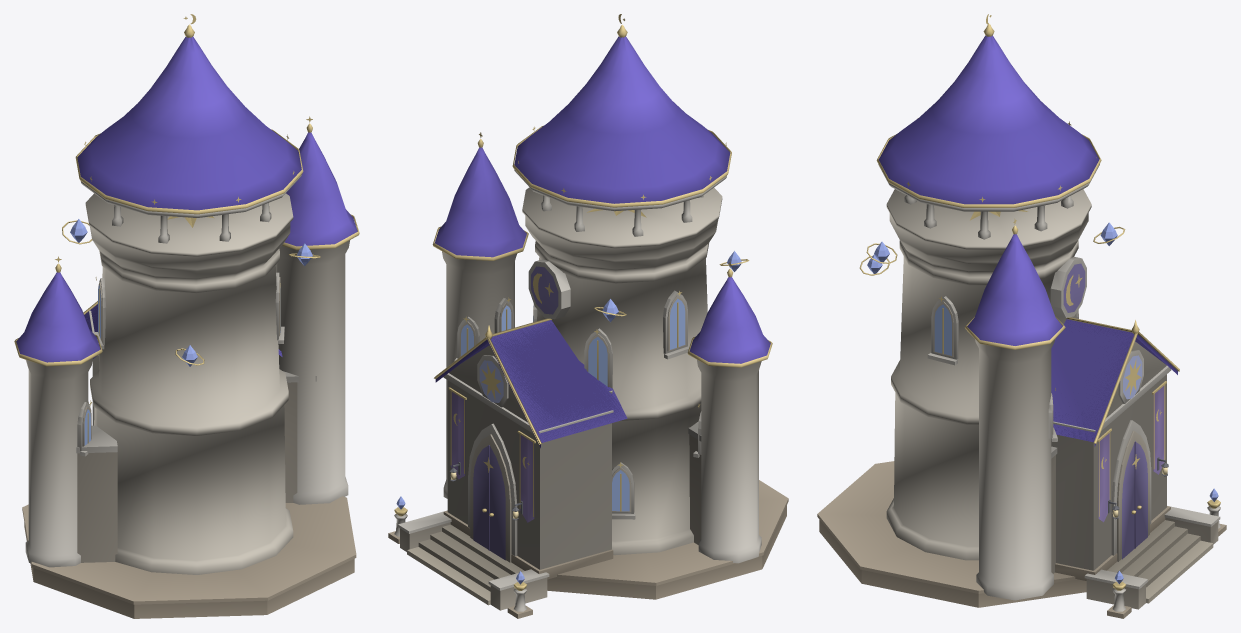
Rendered from mage_lite.glb.
The picture shows the model from 3 angles, left to right: view 1: azimuth 30°, elevation 25°; view 2: azimuth 150°, elevation 25°; view 3: azimuth 270°, elevation 25°; orthographic projection. The views are drawn at different scales.
Visible parts, largest first — view 1: Mage_stone, Mage_roof, Mage_props, Mage_glow; view 2: Mage_stone, Mage_roof, Mage_props, Mage_glow; view 3: Mage_stone, Mage_roof, Mage_props, Mage_glow.
Part boxes in pixels (left/top/right/bottom): Mage_stone: left=22, top=175, right=356, bottom=618; Mage_roof: left=16, top=36, right=357, bottom=362; Mage_props: left=14, top=14, right=359, bottom=443; Mage_glow: left=70, top=219, right=312, bottom=445; Mage_stone: left=388, top=169, right=788, bottom=618; Mage_roof: left=435, top=36, right=770, bottom=448; Mage_props: left=394, top=14, right=772, bottom=590; Mage_glow: left=396, top=251, right=741, bottom=584; Mage_stone: left=817, top=164, right=1226, bottom=618; Mage_roof: left=878, top=35, right=1177, bottom=446; Mage_props: left=859, top=14, right=1220, bottom=590; Mage_glow: left=867, top=222, right=1218, bottom=584.
Size of the model in its own units: 13.27 by 19.98 by 14.18.
